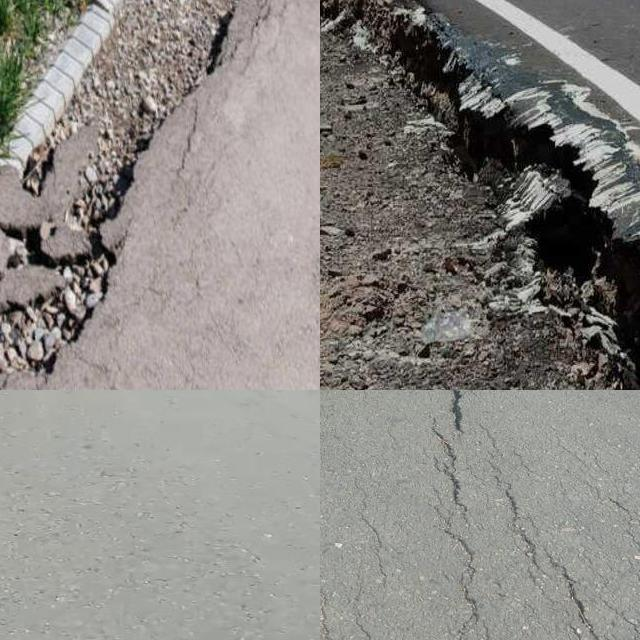Memanjang: (423, 455, 487, 640)
Pinggir: (0, 0, 320, 390), (320, 0, 640, 390)
